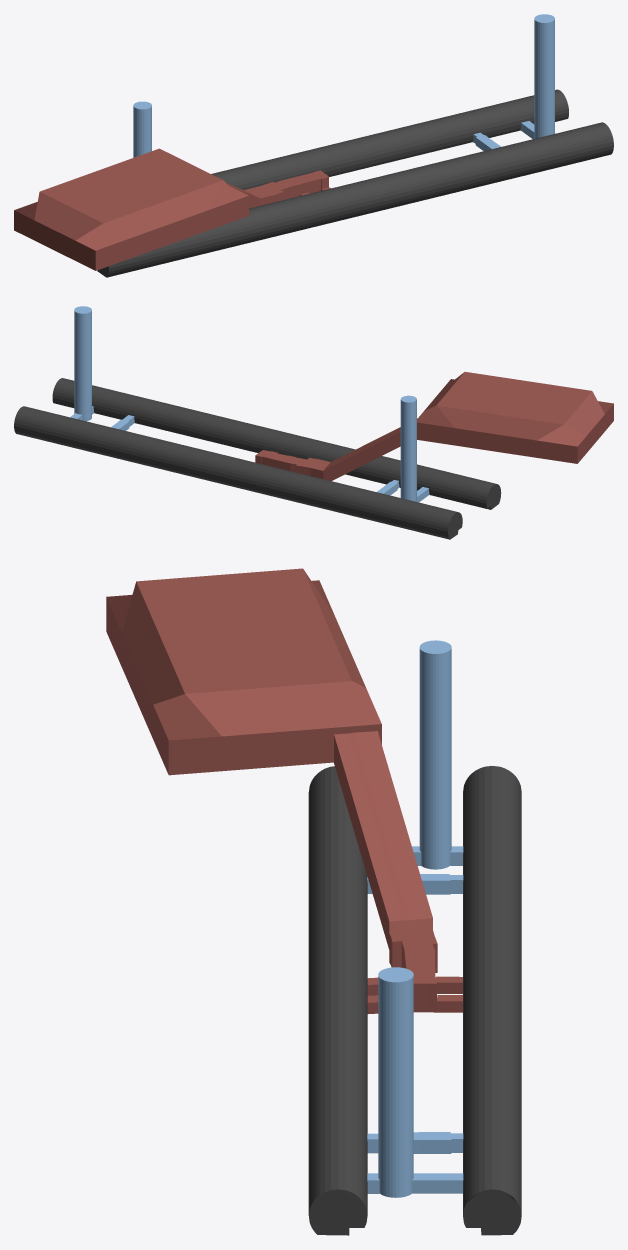
3 views of the same model, one above another, from view 1: azimuth 30°, elevation 25°; view 2: azimuth 150°, elevation 25°; view 3: azimuth 270°, elevation 25° (orthographic). The views are drawn at different scales.
Parts seen in each view (by area): view 1: TicketHall, PLT1, PLT2, 14, Concourse, 24; view 2: PLT2, TicketHall, PLT1, 14, 24, ESC, Concourse; view 3: TicketHall, PLT2, PLT1, ESC, 14, 24, Concourse, 33, 42.
Boxes of the visible parts, box(x1,y1,x2,y2) form: TicketHall: box(14, 148, 248, 270); PLT1: box(97, 122, 613, 277); PLT2: box(211, 89, 568, 189); 14: box(520, 14, 554, 138); Concourse: box(244, 170, 328, 205); 24: box(133, 101, 151, 157); PLT2: box(14, 406, 462, 539); TicketHall: box(417, 372, 613, 463); PLT1: box(52, 378, 501, 509); 14: box(70, 306, 94, 421); 24: box(400, 395, 429, 502); ESC: box(323, 418, 417, 480); Concourse: box(255, 450, 330, 478); TicketHall: box(106, 568, 381, 775); PLT2: box(463, 766, 521, 1235); PLT1: box(308, 766, 367, 1235); ESC: box(334, 731, 432, 949); 14: box(367, 967, 463, 1197); 24: box(412, 640, 463, 869); Concourse: box(389, 918, 437, 1012); 33: box(367, 1132, 463, 1153); 42: box(367, 874, 463, 894).
Bounding box in the file's own units: 186 × 38.67 × 65.05.
